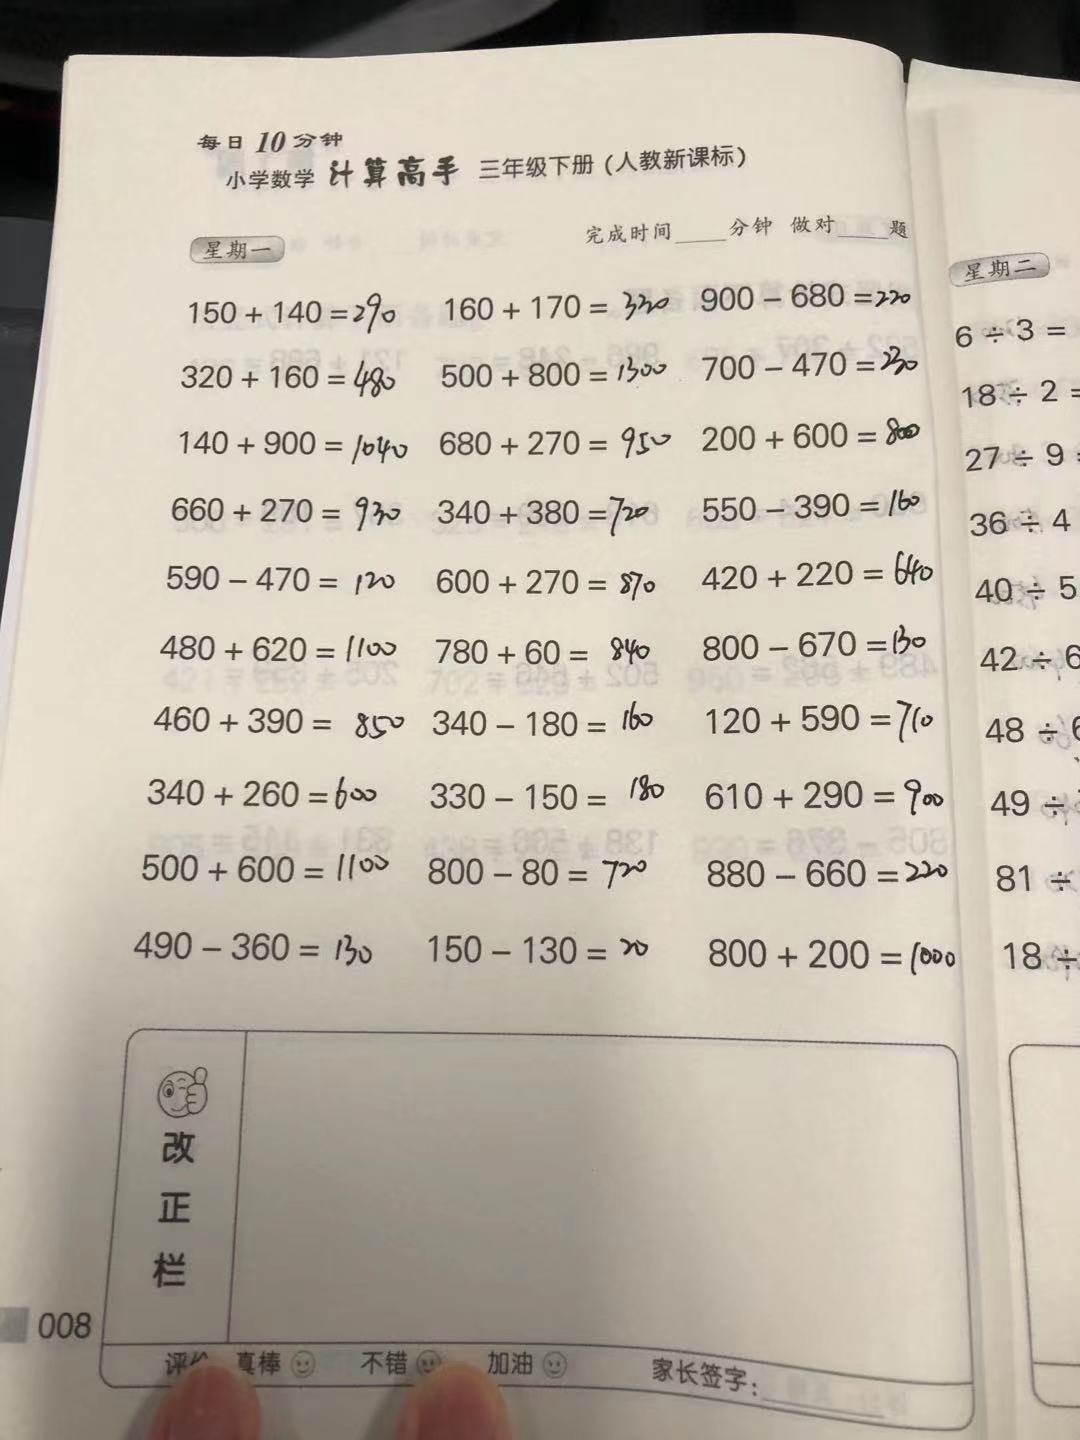equation: (701, 924, 961, 989), (132, 836, 398, 899), (149, 690, 412, 749), (423, 765, 678, 824), (129, 922, 389, 978), (168, 282, 408, 338), (422, 921, 667, 974), (143, 770, 388, 821), (163, 483, 416, 532), (701, 698, 943, 748), (428, 625, 666, 673), (153, 557, 400, 603), (430, 849, 661, 898), (698, 779, 955, 822), (694, 412, 932, 458), (168, 422, 418, 464), (177, 355, 414, 399), (698, 552, 937, 595), (699, 626, 942, 668), (435, 420, 677, 462), (426, 702, 679, 742), (698, 856, 964, 894), (437, 281, 674, 323), (163, 632, 403, 672), (432, 565, 664, 606), (431, 352, 684, 388), (696, 348, 925, 384), (689, 487, 939, 519), (436, 495, 659, 530), (698, 279, 917, 313)
